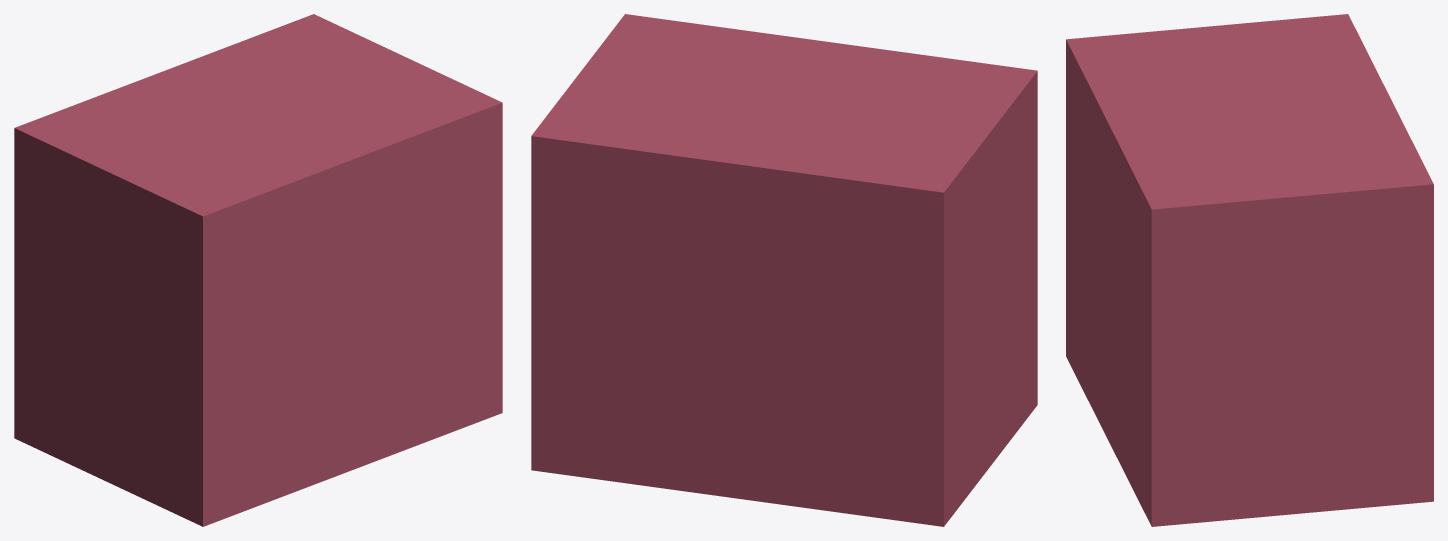
The model's file is SM_Tool_corrosion.glb.
3 renders of one model, left to right at view 1: azimuth 30°, elevation 25°; view 2: azimuth 150°, elevation 25°; view 3: azimuth 270°, elevation 25°, orthographic. The views are drawn at different scales.
Visible parts, largest first — view 1: SM_Tool_corrosion; view 2: SM_Tool_corrosion; view 3: SM_Tool_corrosion.
Boxes of the visible parts, x1,y1,x2,y2 form: SM_Tool_corrosion: [14, 14, 502, 526]; SM_Tool_corrosion: [531, 14, 1037, 526]; SM_Tool_corrosion: [1066, 14, 1433, 526].
Size of the model in its own units: 1.12 by 0.85 by 0.8926.
